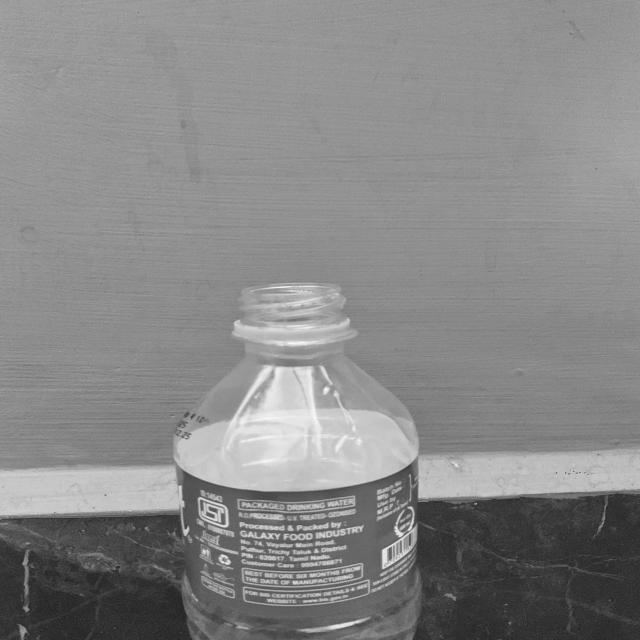open-cap: (233, 281, 351, 338)
